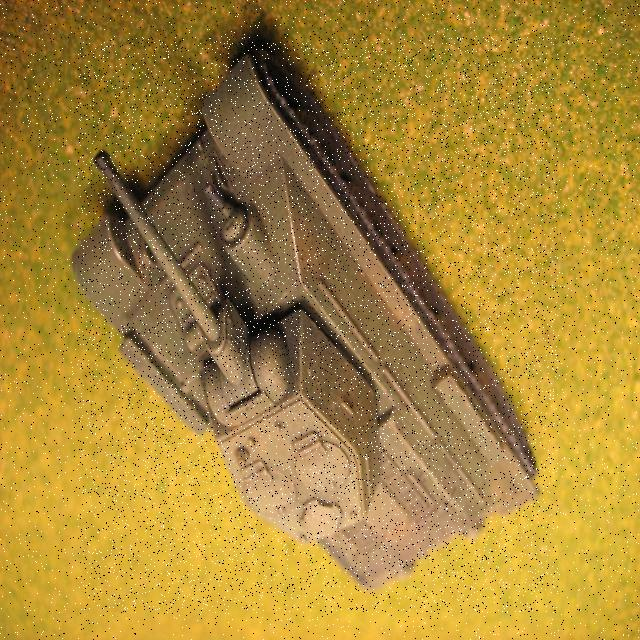MIL_MBT: (78, 37, 557, 612)
